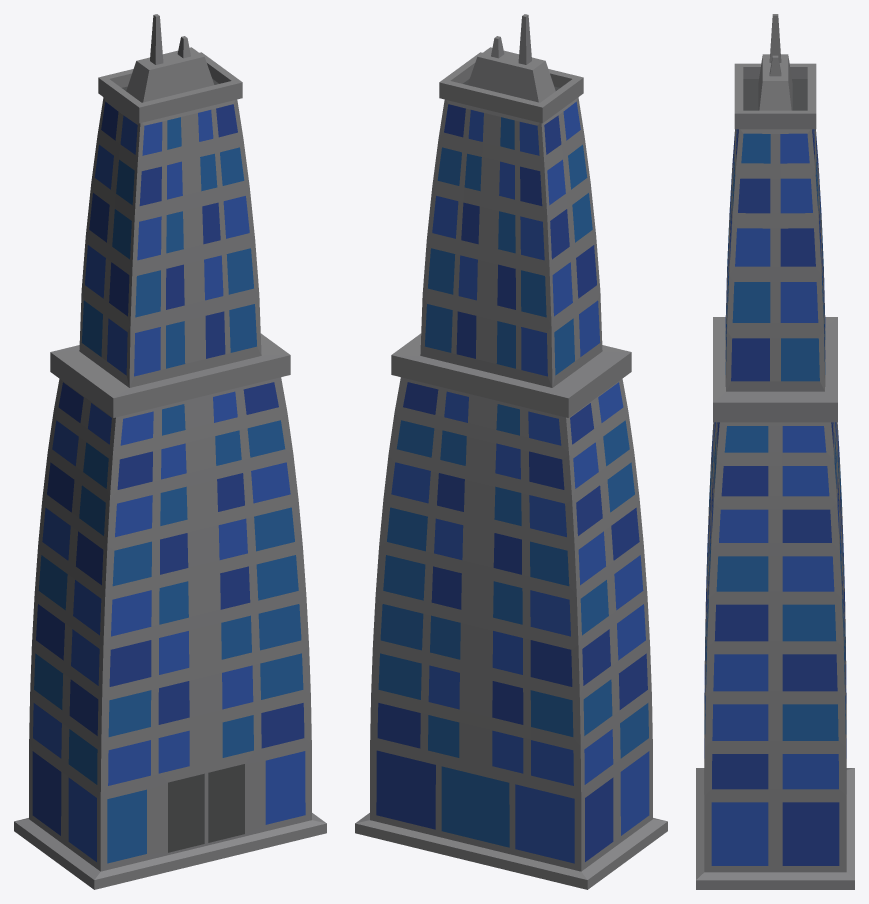
Rendered from HighHouse 3.3.fbx.
3 views of the same model, side by side, from view 1: azimuth 30°, elevation 25°; view 2: azimuth 150°, elevation 25°; view 3: azimuth 270°, elevation 25° (orthographic).
Parts seen in each view (by area): view 1: HighHouse_3_03; view 2: HighHouse_3_03; view 3: HighHouse_3_03.
Boxes of the visible parts, left/top/right/bottom form: HighHouse_3_03: left=14, top=14, right=326, bottom=889; HighHouse_3_03: left=355, top=14, right=667, bottom=889; HighHouse_3_03: left=696, top=14, right=854, bottom=889.
Bounding box in the file's own units: 583 × 1966 × 349.
